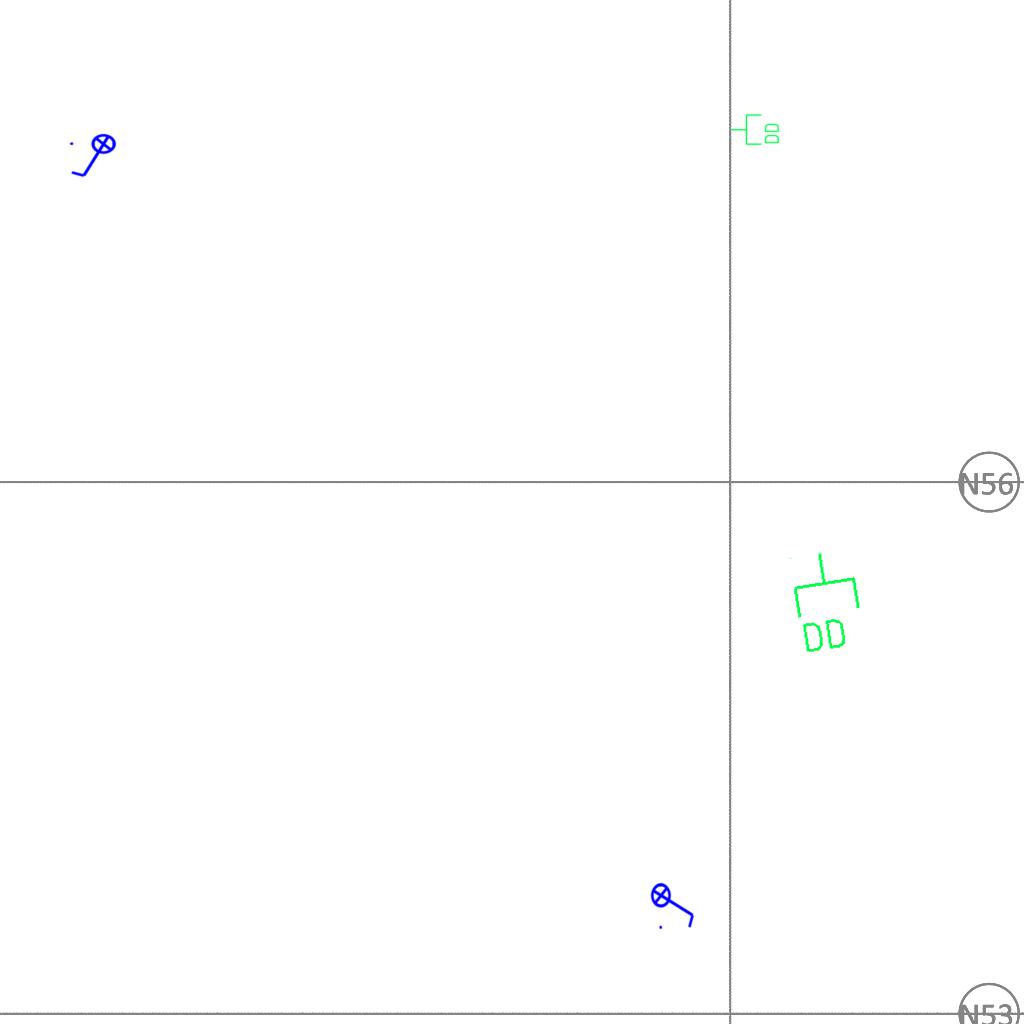Ausschalter_beleuchtet: (67, 133, 123, 181), (650, 876, 698, 932)
Datenanschluss_zweifach: (784, 545, 869, 658), (730, 113, 781, 147)
